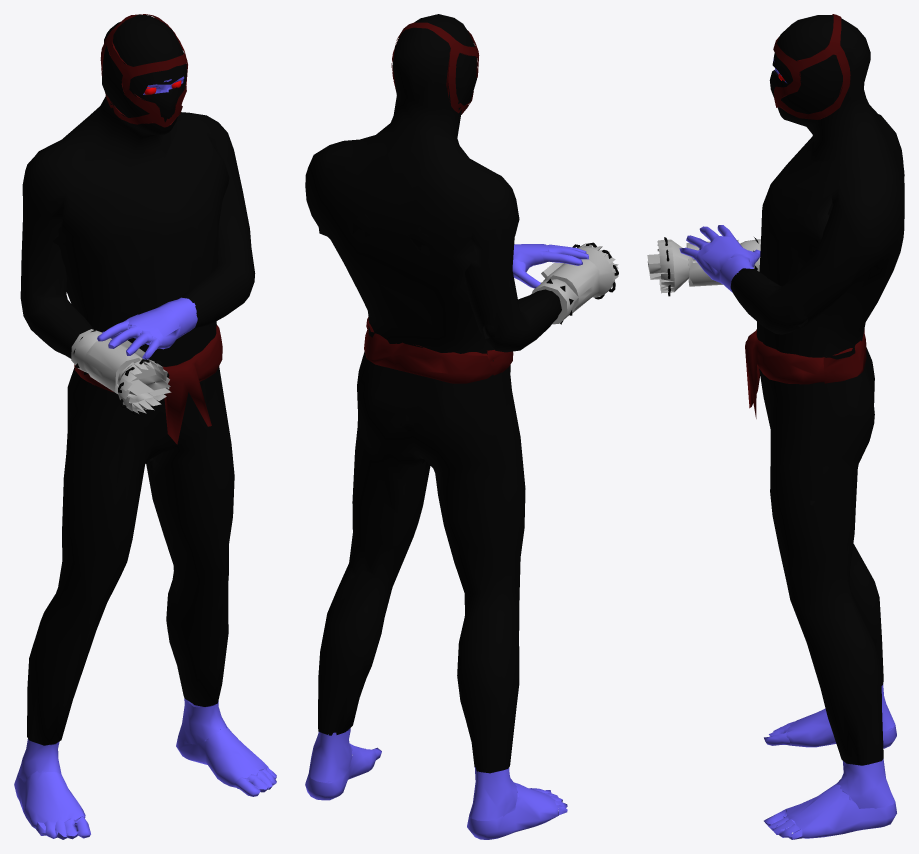
The model's file is ninjeuboom.FBX.
3 renders of one model, left to right at view 1: azimuth 30°, elevation 25°; view 2: azimuth 150°, elevation 25°; view 3: azimuth 270°, elevation 25°, orthographic.
Parts seen in each view (by area): view 1: Group20682; view 2: Group20682; view 3: Group20682.
Boxes of the visible parts, x1,y1,x2,y2 form: Group20682: (14, 14, 276, 839); Group20682: (305, 14, 618, 839); Group20682: (647, 14, 904, 839).
Bounding box in the file's own units: 58.21 × 183 × 55.62.
